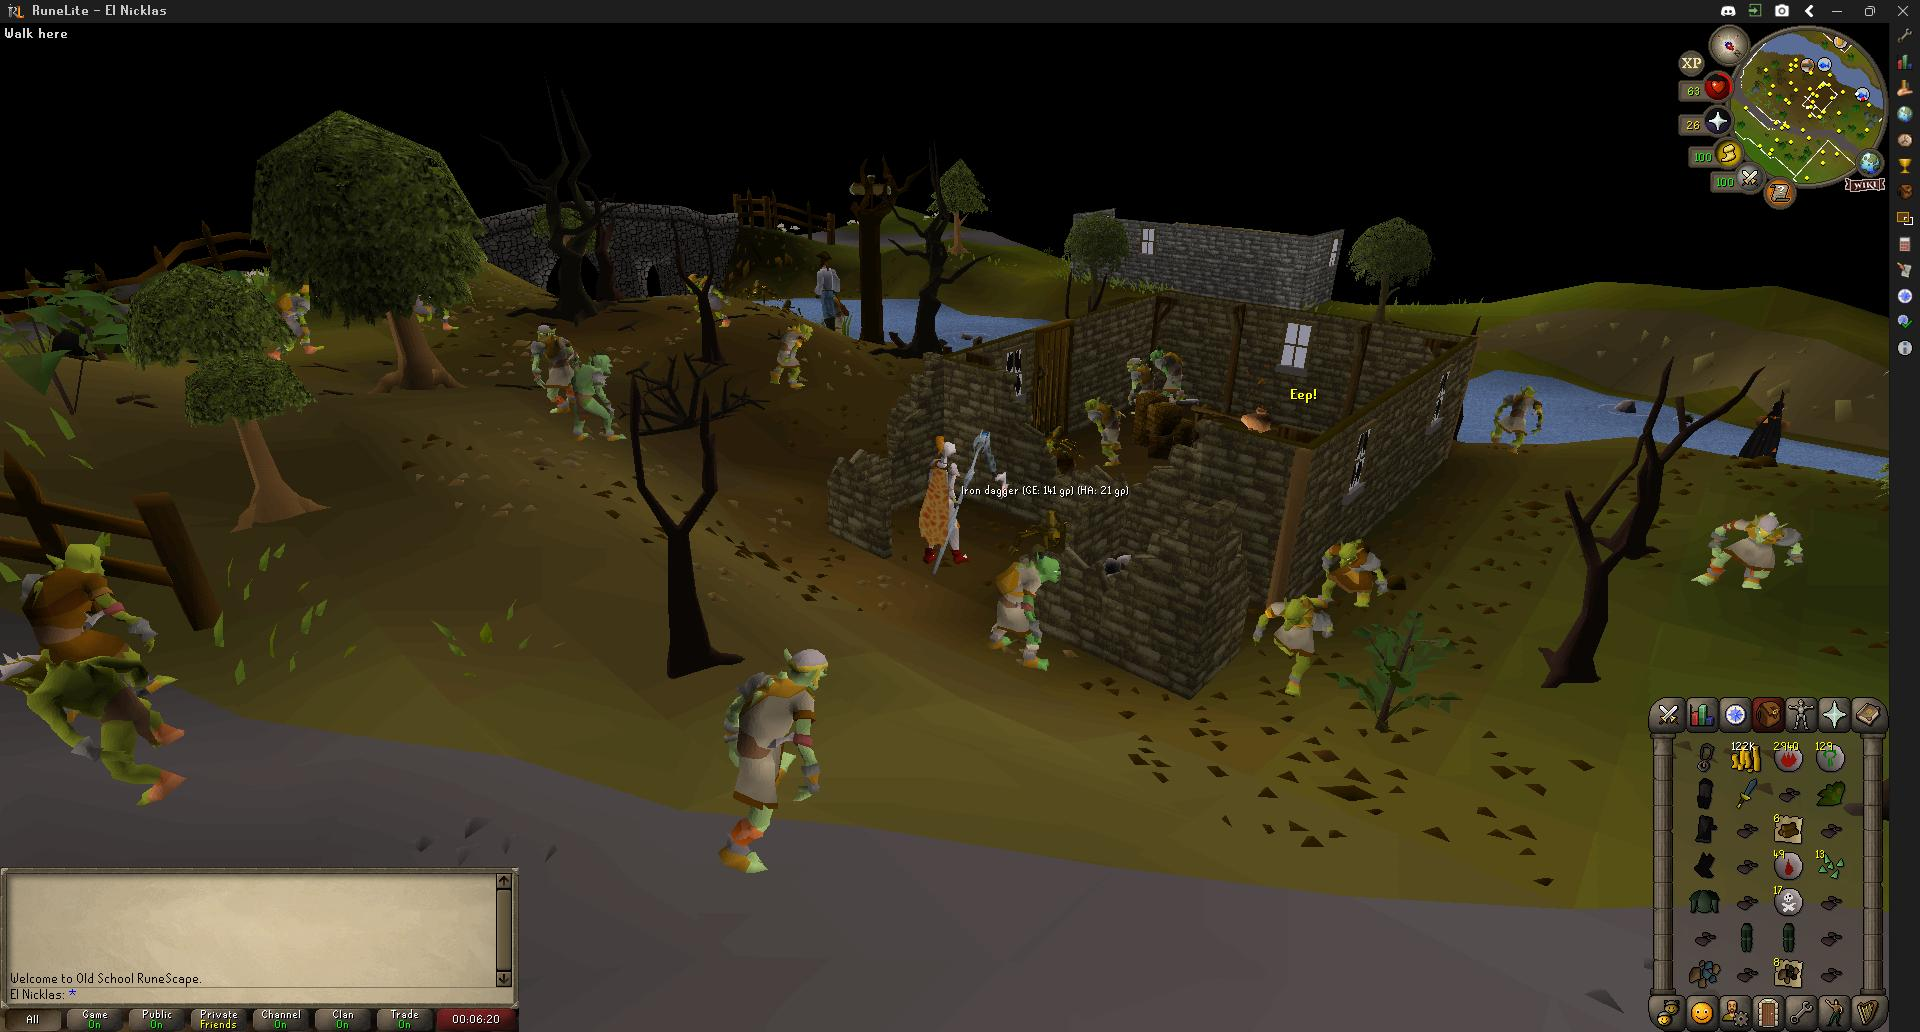Player: (920, 430, 967, 567)
goblin: (1, 541, 190, 794), (712, 646, 824, 874), (1686, 506, 1802, 590), (987, 549, 1059, 662), (1260, 597, 1329, 692), (568, 349, 626, 438), (527, 323, 581, 418), (1319, 536, 1385, 613), (1494, 383, 1547, 451), (1085, 394, 1132, 468), (274, 283, 320, 355), (769, 319, 812, 389), (1151, 347, 1191, 404), (689, 274, 729, 327), (1124, 355, 1160, 410), (1045, 424, 1080, 479), (1040, 507, 1065, 553), (411, 290, 438, 330), (439, 304, 458, 332)
